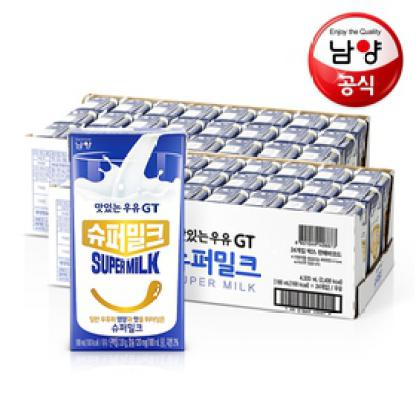tetra: (64, 113, 194, 370)
